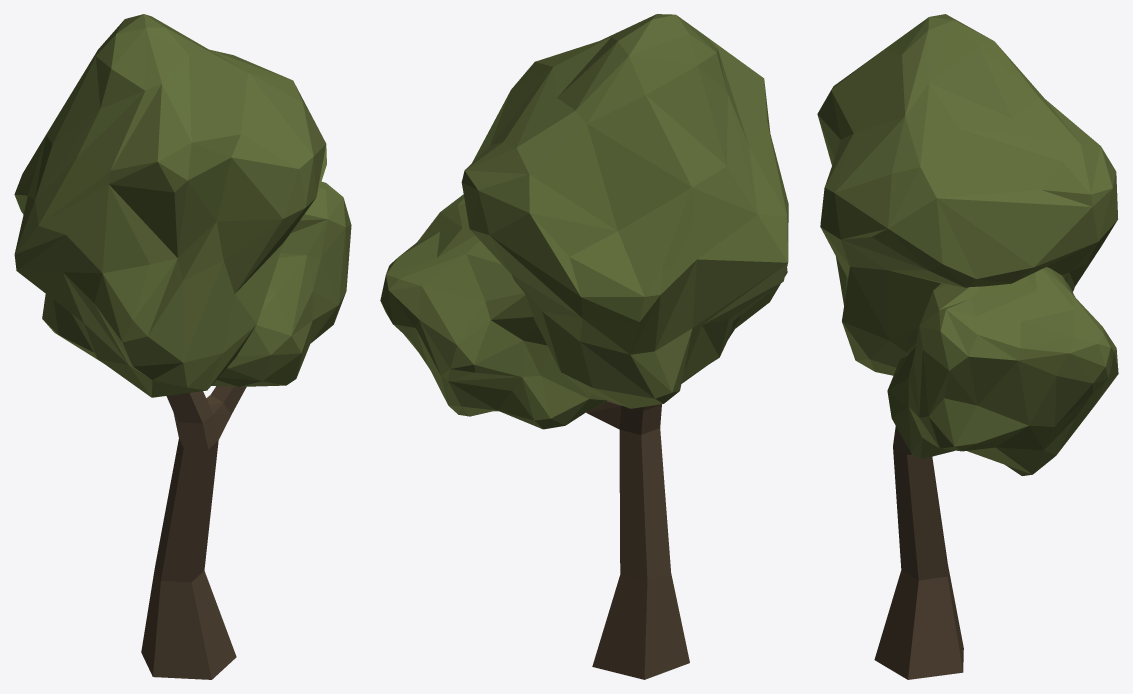
File: SM_Env_Tree_06.gltf
The picture shows the model from 3 angles, left to right: view 1: azimuth 30°, elevation 25°; view 2: azimuth 150°, elevation 25°; view 3: azimuth 270°, elevation 25°; orthographic projection. The views are drawn at different scales.
Visible parts, largest first — view 1: SM_Env_Tree_06; view 2: SM_Env_Tree_06; view 3: SM_Env_Tree_06.
Part boxes in pixels (x1,y1,x2,y2): SM_Env_Tree_06: [14, 14, 351, 679]; SM_Env_Tree_06: [380, 14, 788, 679]; SM_Env_Tree_06: [817, 14, 1118, 679].
Size of the model in its own units: 3.2 by 5.83 by 2.54.
1 material, 1 textured.
